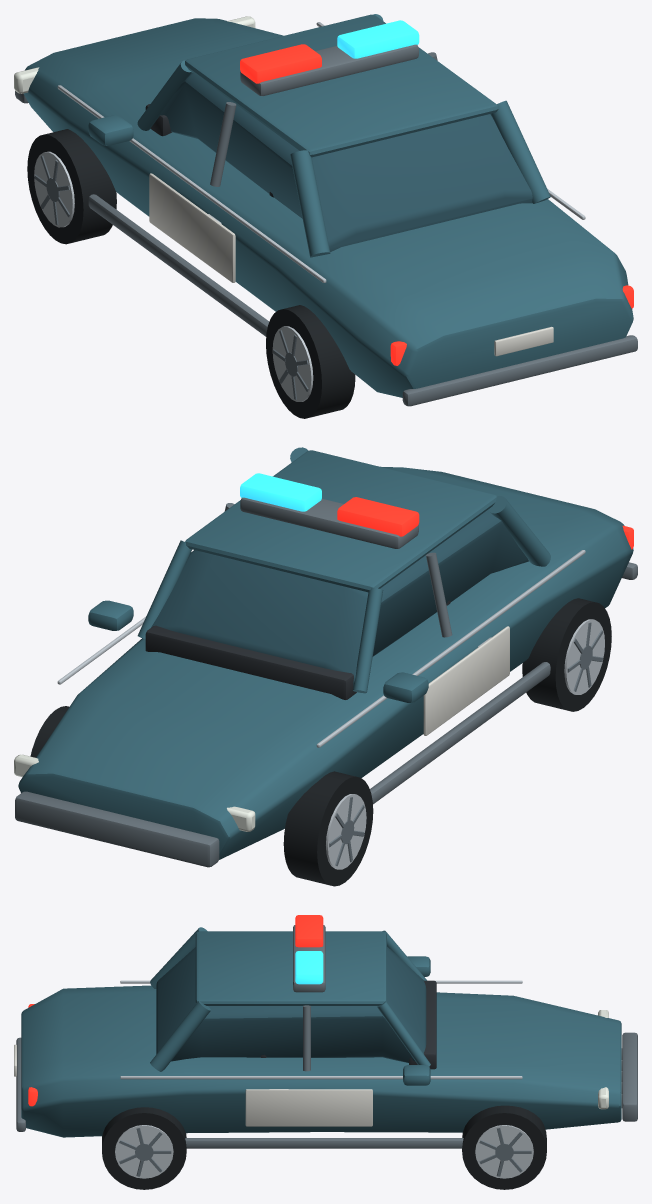
File: Sentinel_Police.fbx
3 views of the same model, one above another, from view 1: azimuth 30°, elevation 25°; view 2: azimuth 150°, elevation 25°; view 3: azimuth 270°, elevation 25° (orthographic). The views are drawn at different scales.
Visible parts, largest first — view 1: Body.007, Wheel_LF.007, Wheel_LR.007; view 2: Body.007, Wheel_LF.007, Wheel_LR.007, Wheel_RF.007; view 3: Body.007, Wheel_RF.007, Wheel_RR.007.
Boxes of the visible parts, bbox=[...] form: Body.007: bbox=[15, 14, 637, 406]; Wheel_LF.007: bbox=[27, 129, 116, 244]; Wheel_LR.007: bbox=[266, 305, 355, 418]; Body.007: bbox=[15, 447, 637, 867]; Wheel_LF.007: bbox=[283, 771, 373, 886]; Wheel_LR.007: bbox=[522, 598, 611, 711]; Wheel_RF.007: bbox=[30, 706, 69, 757]; Body.007: bbox=[14, 915, 637, 1148]; Wheel_RF.007: bbox=[462, 1105, 546, 1189]; Wheel_RR.007: bbox=[102, 1107, 186, 1189].
Size of the model in its own units: 2.35 by 1.75 by 5.14.
